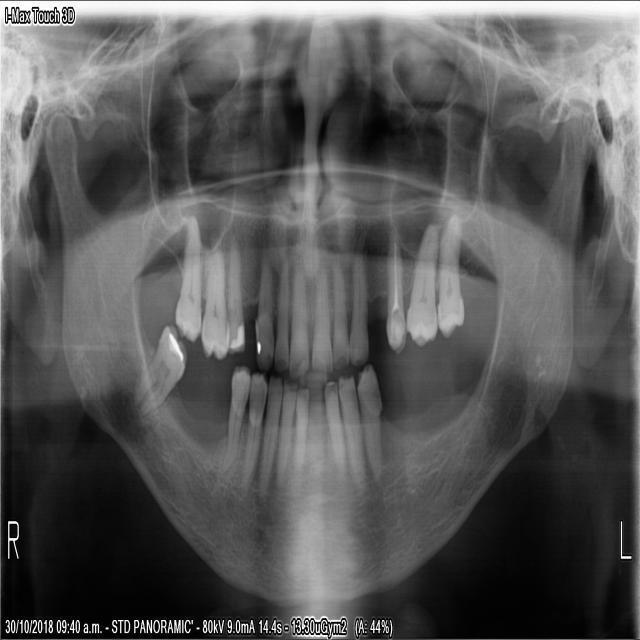LCD: (354, 356, 384, 487)
LCU: (346, 244, 369, 369)
LID: (334, 367, 367, 497), (319, 371, 347, 488)
LIU: (308, 252, 333, 377), (326, 247, 349, 371)
LMU: (402, 202, 442, 355), (434, 205, 466, 344)
LPMU: (382, 219, 407, 358)
RCD: (254, 367, 284, 504)
RCU: (252, 246, 274, 373)
RID: (271, 373, 298, 495), (290, 381, 310, 488)
RIU: (286, 247, 309, 378), (271, 242, 289, 375)
RMD: (127, 316, 187, 427)
RMU: (196, 222, 229, 364), (171, 203, 203, 347)
RPMD: (234, 364, 268, 498), (215, 361, 252, 478)
RPMU: (223, 225, 244, 357)
